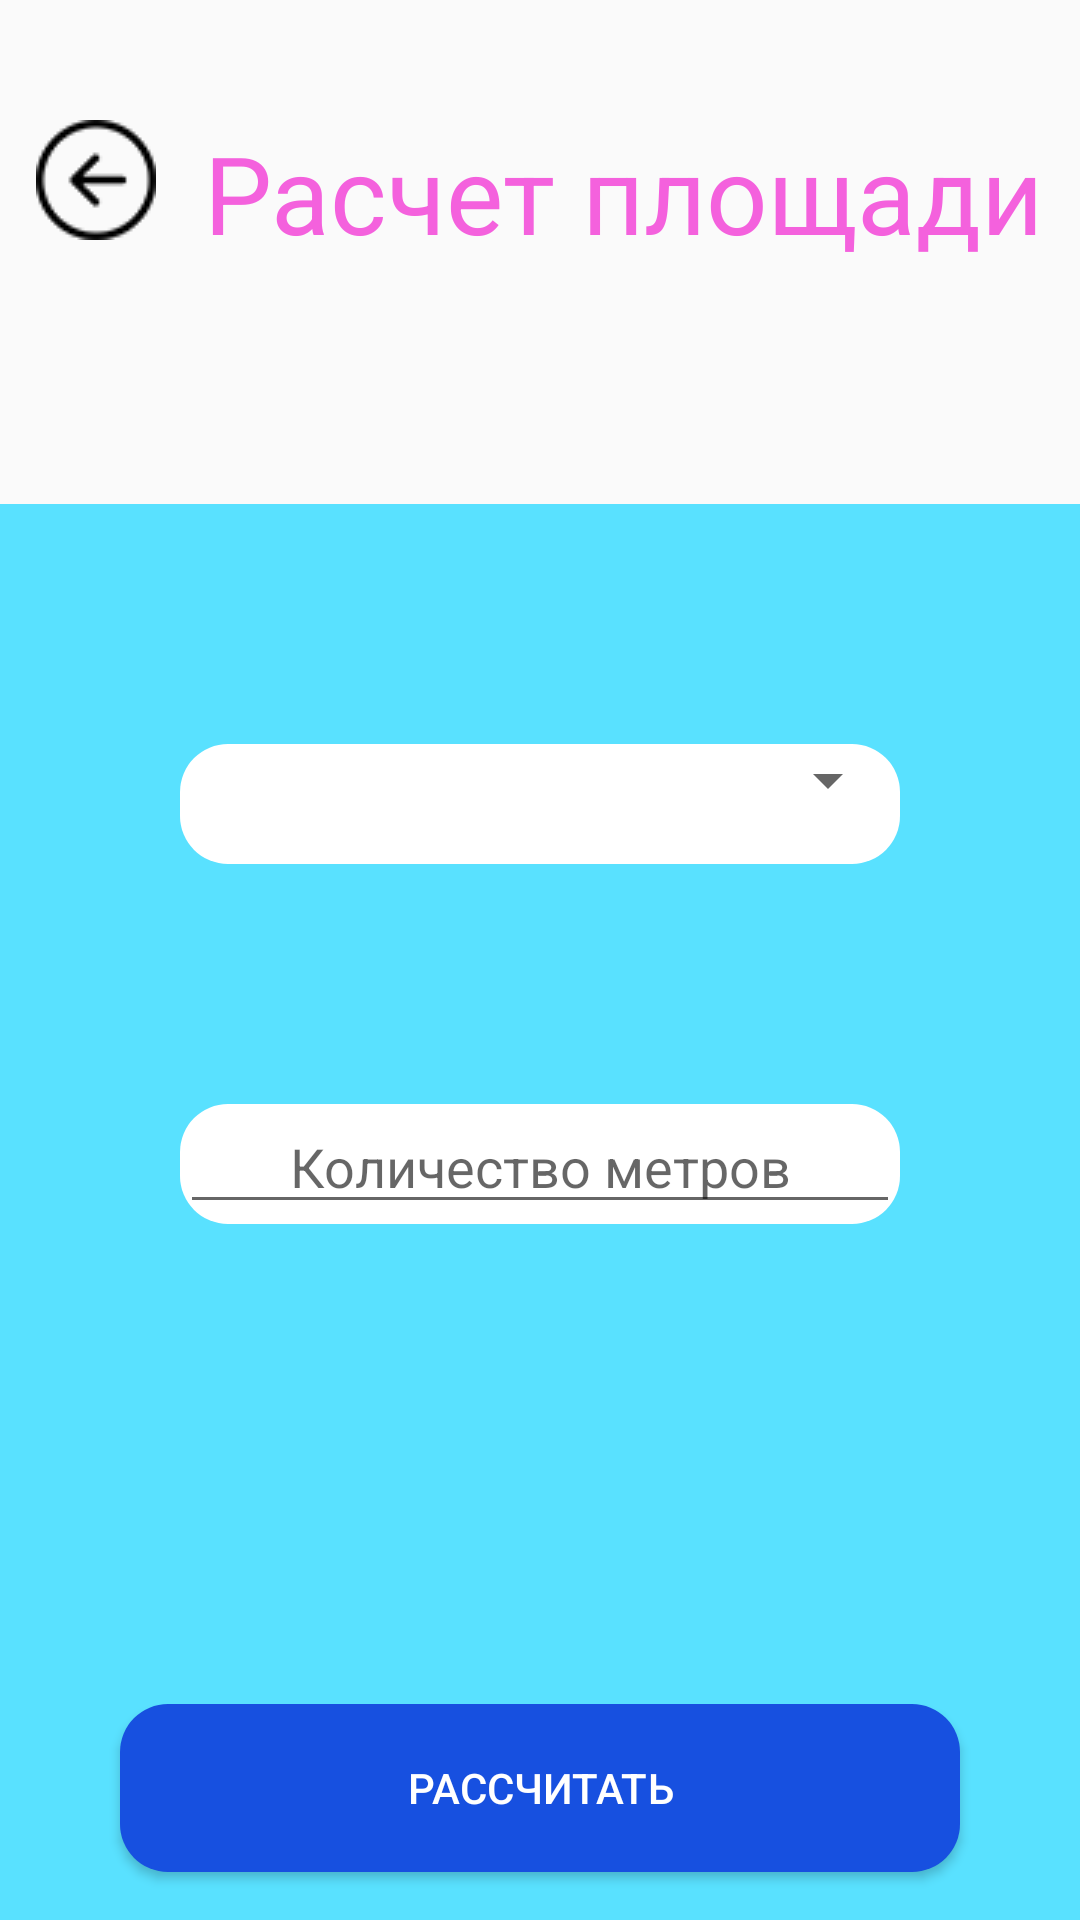

Point at icon controls on the screen. Image size 1080 x 1920, points as (x=x, y=y).
arrowback: (x=96, y=180)
